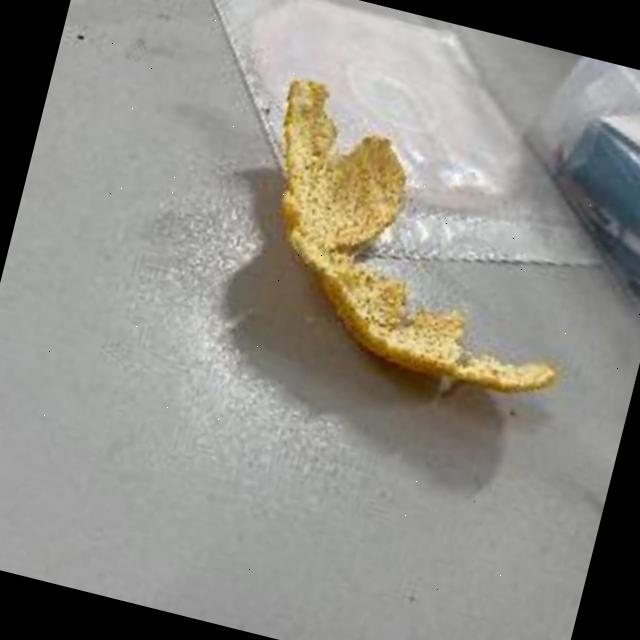orange-peel: (221, 70, 614, 420)
